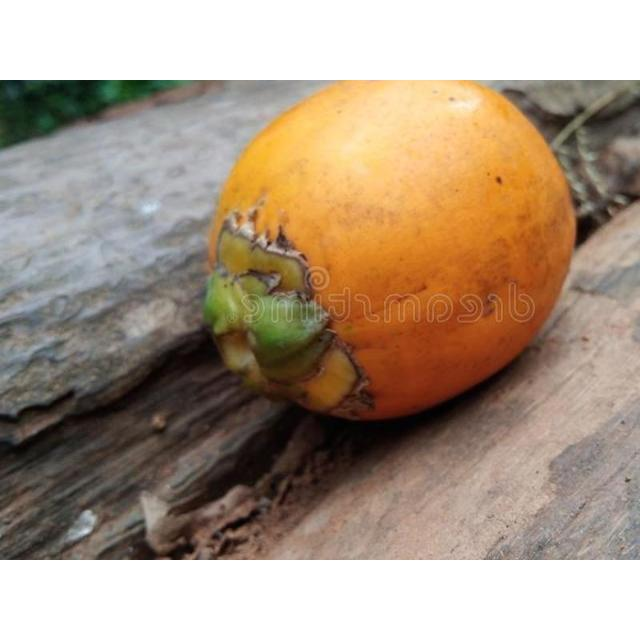good: (202, 80, 578, 424)
